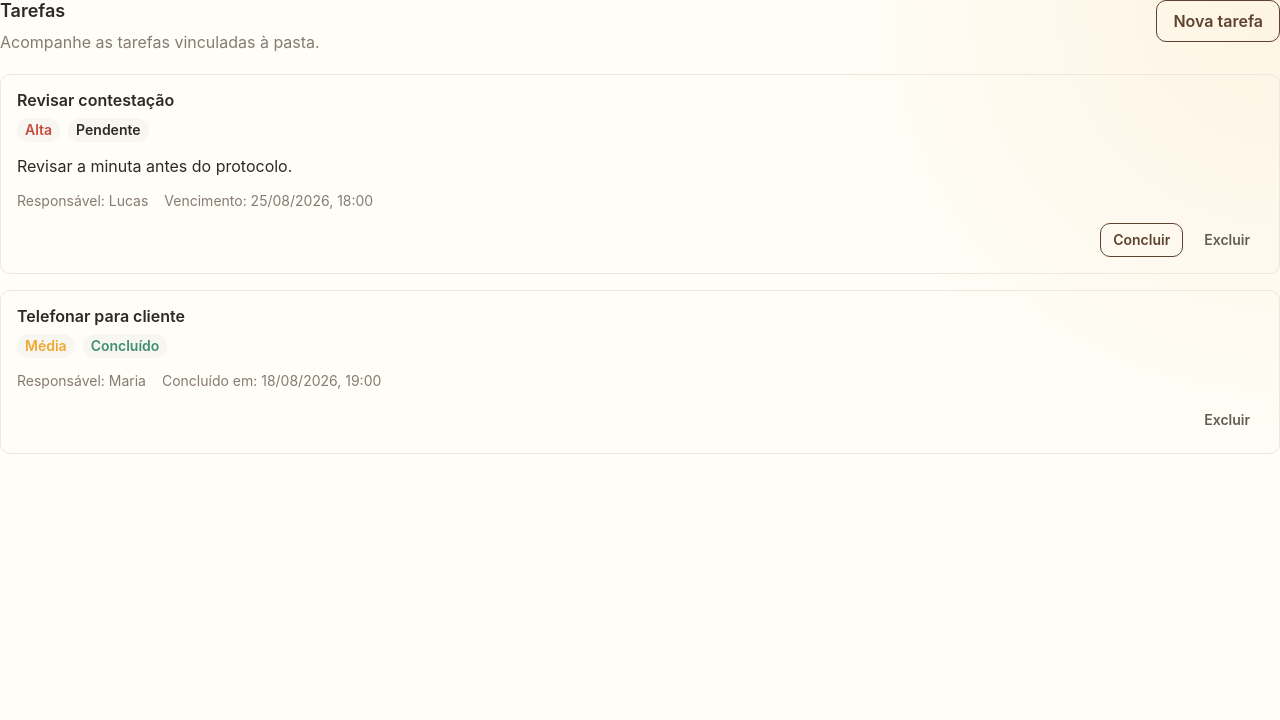
Test: FolderTasks › abre confirmação ao clicar em Excluir
This screenshot has width=1280, height=720.
Click the 1st button "Excluir" at (1227, 240), box [1191, 223, 1263, 257]
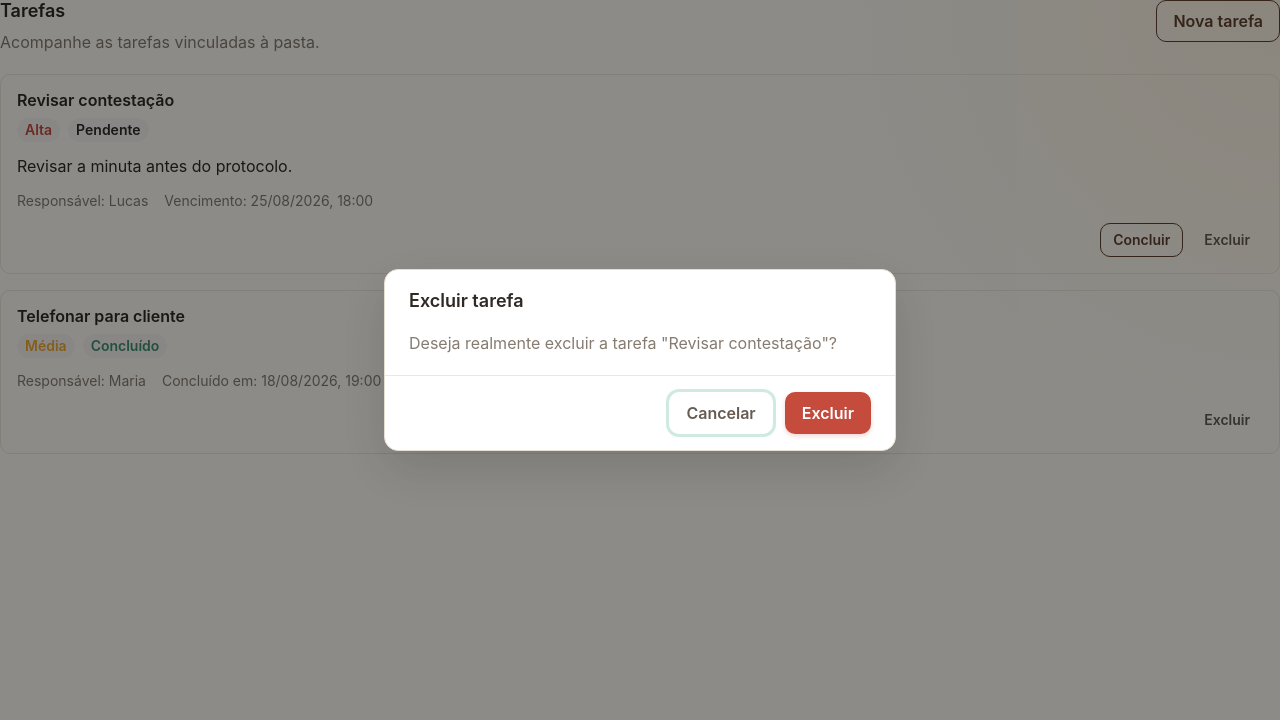
expect the text "Excluir tarefa" is shown: met, box [409, 290, 524, 311]
expect the text "Deseja realmente excluir a tarefa \"Revisar contestação\"?" is shown: met, box [409, 331, 871, 355]
